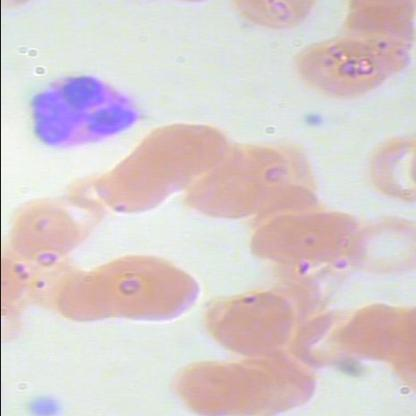Platelets: (26, 392, 64, 416), (298, 107, 330, 131)
RBC: (288, 34, 388, 104), (195, 287, 292, 357), (112, 259, 200, 329), (59, 259, 147, 329), (184, 160, 272, 230), (3, 192, 93, 260), (248, 210, 338, 278), (163, 350, 252, 416), (336, 294, 414, 364), (342, 213, 415, 285), (226, 0, 318, 45)
WBC: (19, 53, 142, 162)
